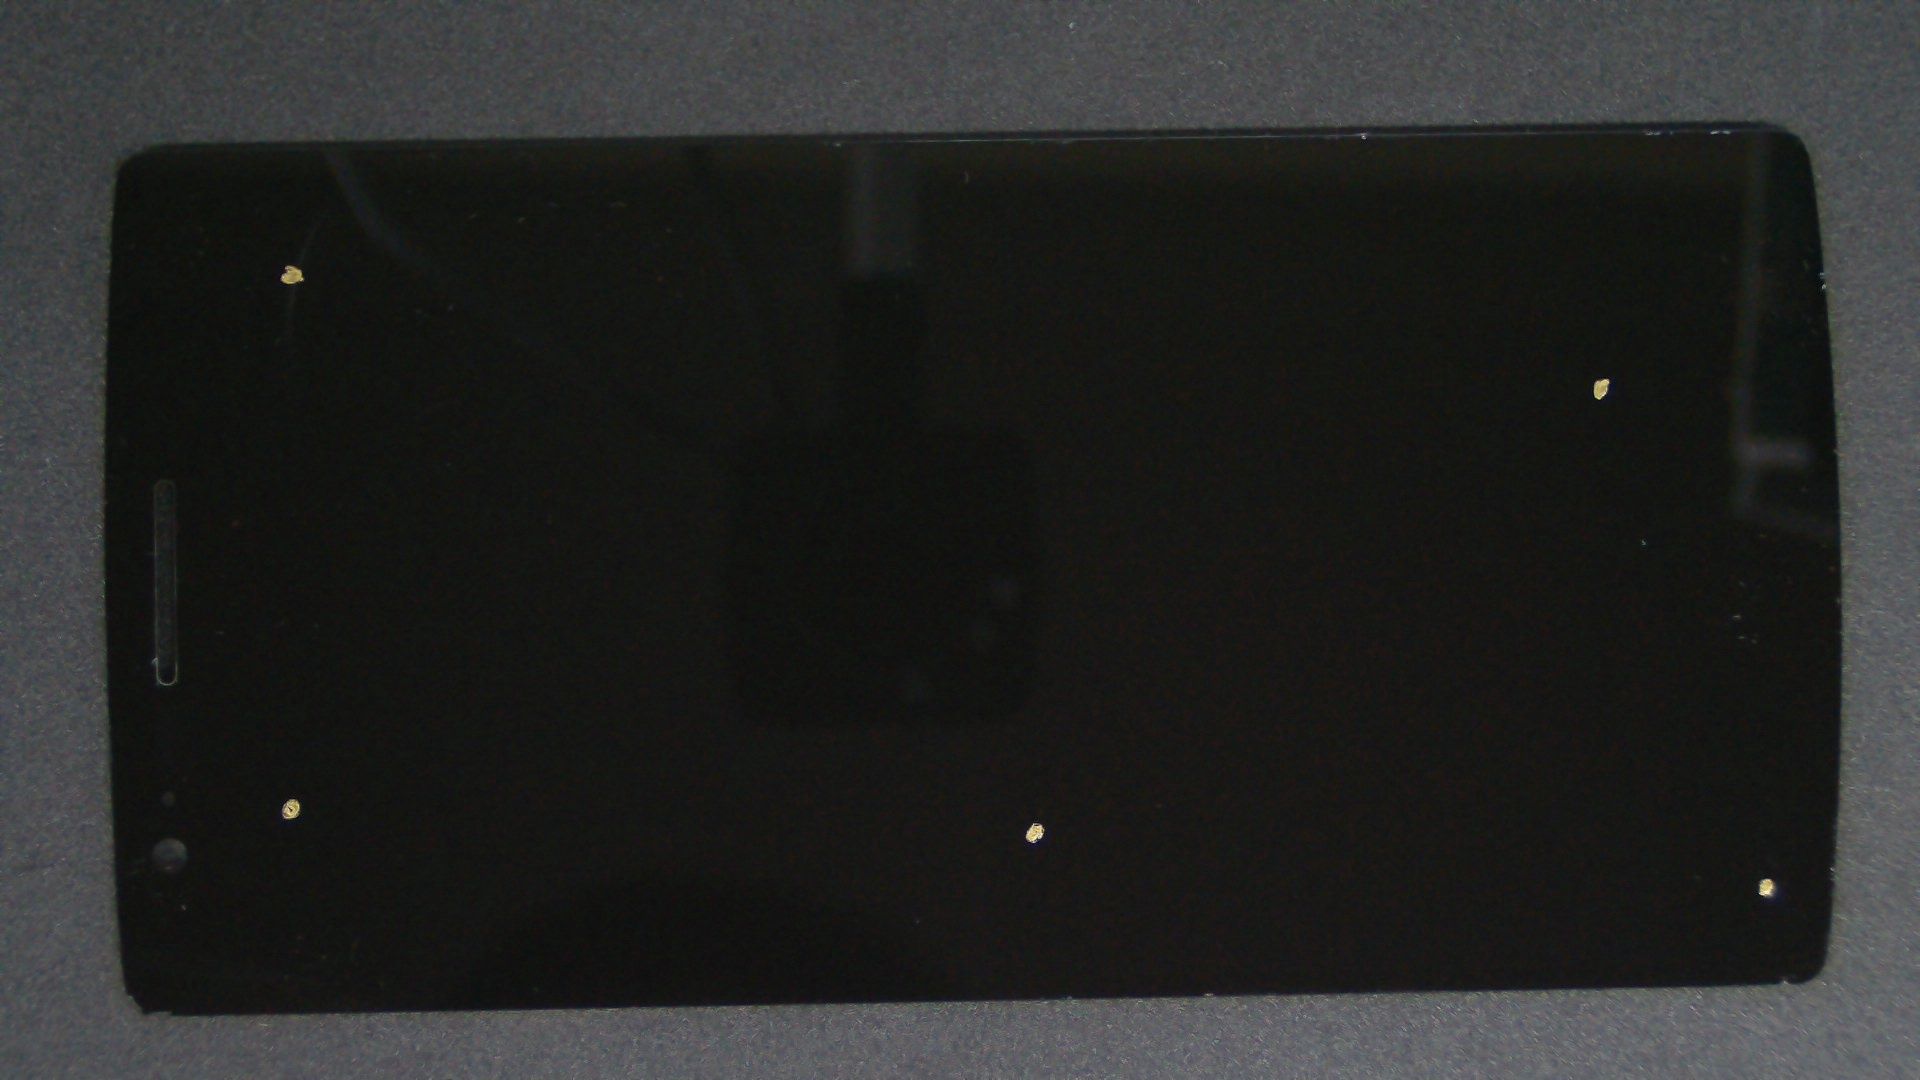oil: (517, 410, 1547, 1080), (882, 438, 1920, 1080), (802, 189, 1920, 567), (145, 398, 433, 1080), (144, 132, 430, 397)
